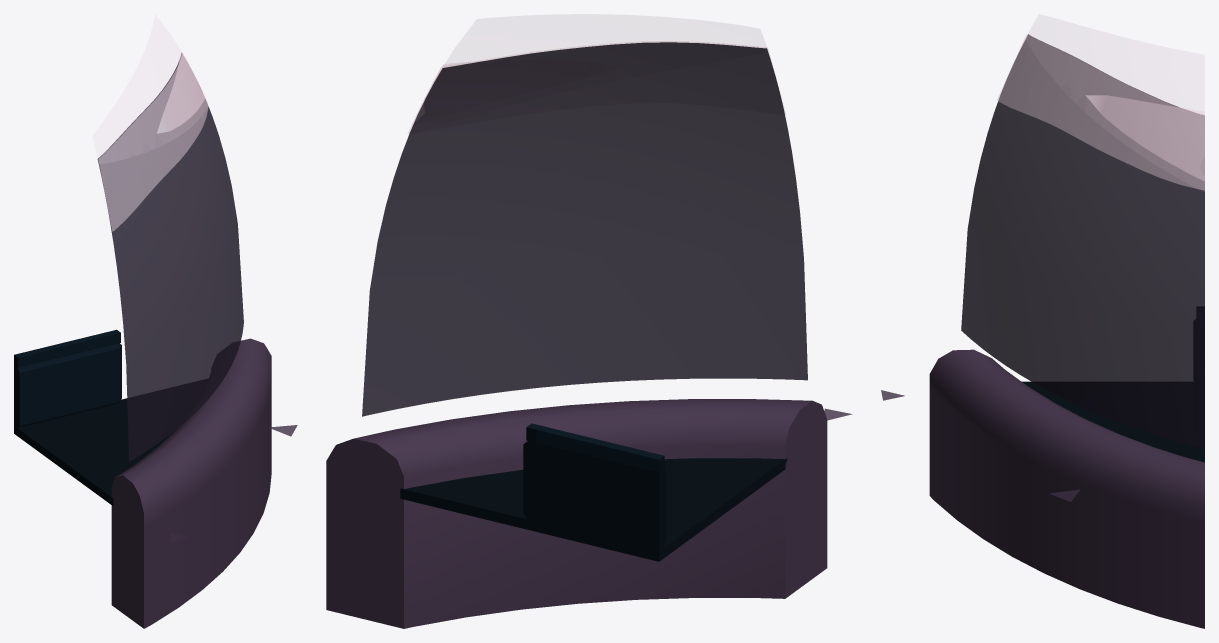
The model's file is purple_dome_br_wreck.glb.
3 renders of one model, left to right at view 1: azimuth 30°, elevation 25°; view 2: azimuth 150°, elevation 25°; view 3: azimuth 270°, elevation 25°, orthographic. The views are drawn at different scales.
Visible parts, largest first — view 1: purple_dome_br_wreck; view 2: purple_dome_br_wreck; view 3: purple_dome_br_wreck.
Boxes of the visible parts, <box> form: purple_dome_br_wreck: <box>14,15,297,628</box>; purple_dome_br_wreck: <box>326,14,852,628</box>; purple_dome_br_wreck: <box>881,15,1204,628</box>.
Size of the model in its own units: 10.78 by 19.41 by 11.09.
